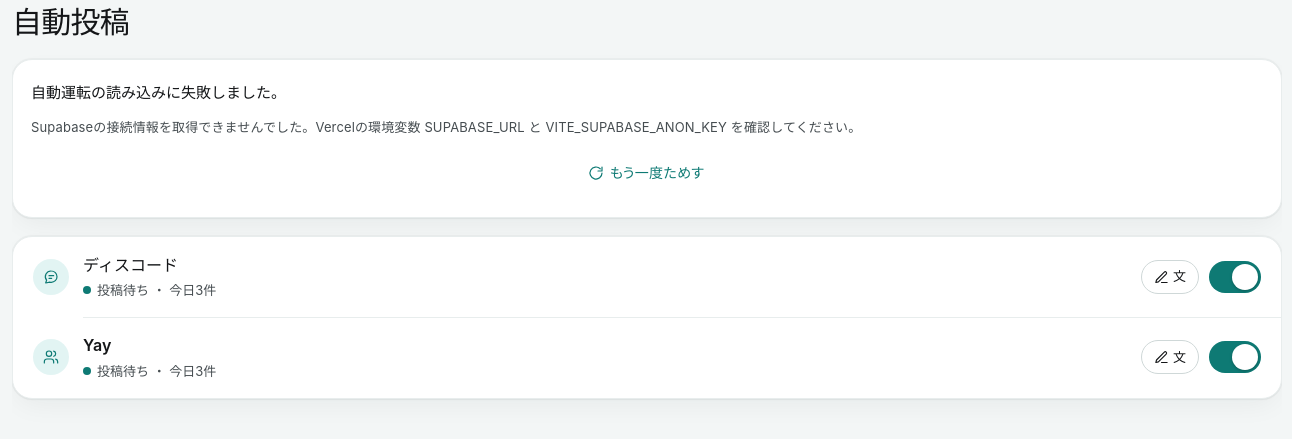
Test: AutoPostHome（アプリを開いて最初の1画面） › 止める操作が失敗したら、その投稿先の行にだけ理由を出す
The image size is (1292, 439).
Click the switch named "Yayの自動投稿": (1235, 357) [1209,341,1261,373]
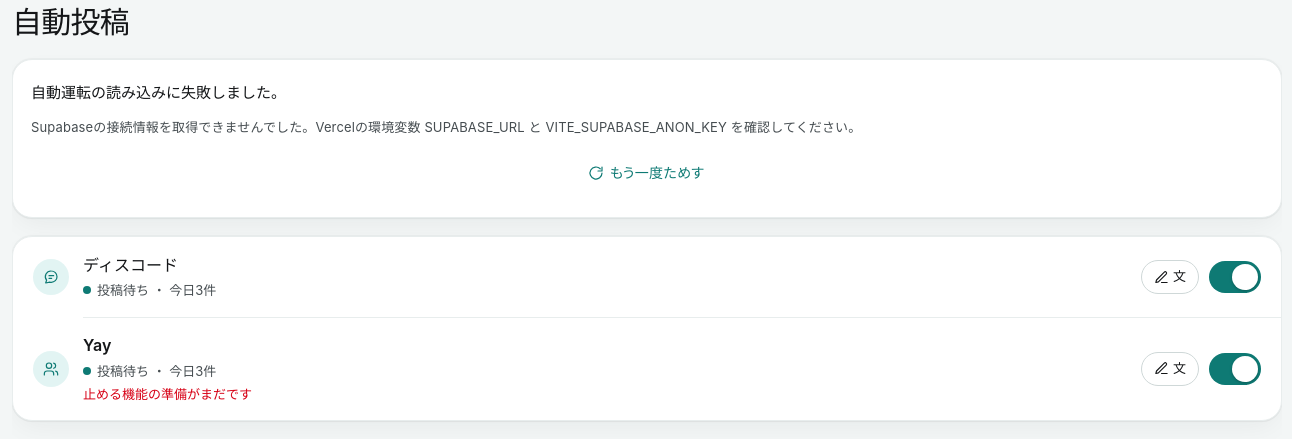
Expected: the switch named "Yayの自動投稿" is enabled, [1209,353,1261,385]
Now the message reads "止める機能の準備がまだです", box [83,386,252,402]
Now the number of messages is 1, box [83,386,252,402]
